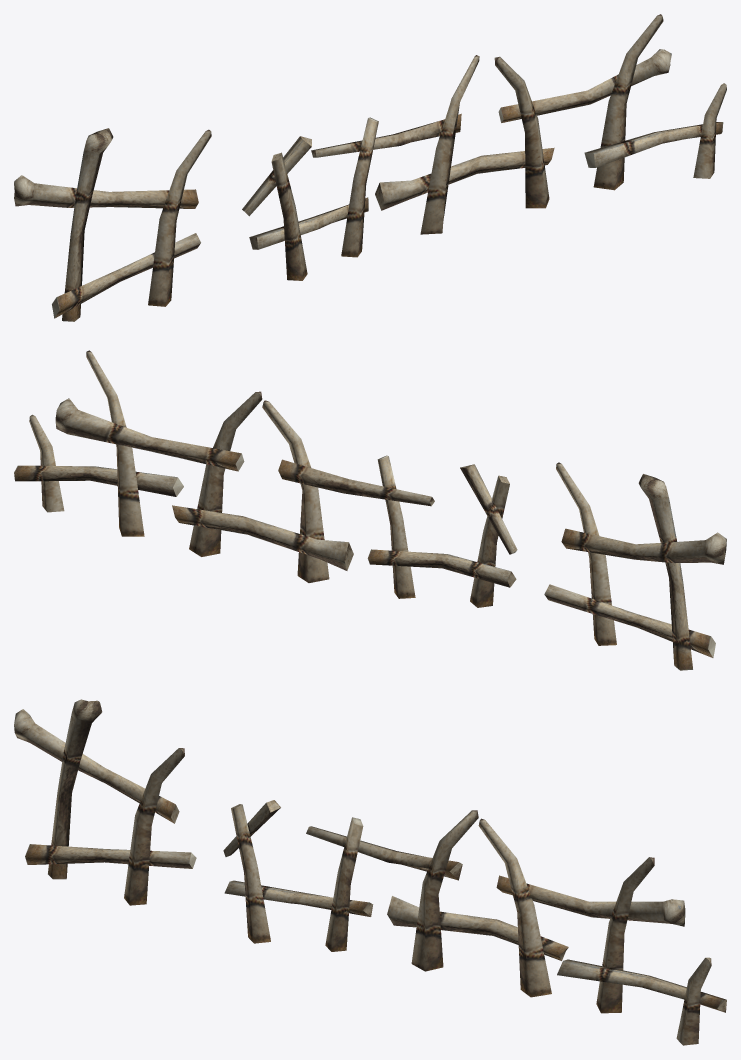
File: SC_tamalagebi_34.FBX
The picture shows the model from 3 angles, top to bottom: view 1: azimuth 30°, elevation 25°; view 2: azimuth 150°, elevation 25°; view 3: azimuth 330°, elevation 25°; orthographic projection. The views are drawn at different scales.
Parts seen in each view (by area): view 1: SC_tamalagebi_34; view 2: SC_tamalagebi_34; view 3: SC_tamalagebi_34.
Part boxes in pixels (left/top/right/bottom): SC_tamalagebi_34: left=14, top=14, right=726, bottom=321; SC_tamalagebi_34: left=14, top=350, right=726, bottom=670; SC_tamalagebi_34: left=14, top=699, right=726, bottom=1045.
Size of the model in its own units: 1126 by 282 by 96.13.
